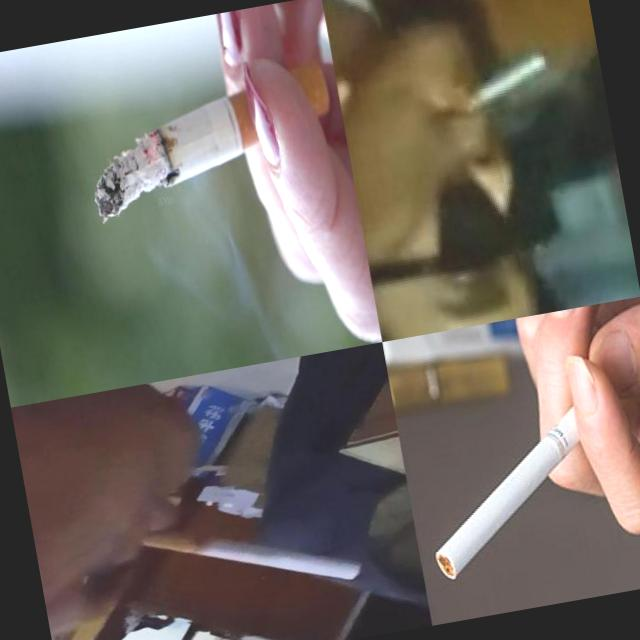smoke: (78, 64, 344, 225), (411, 390, 631, 582), (138, 494, 367, 616), (448, 48, 554, 119)
